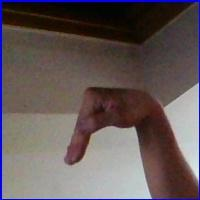A: (67, 83, 162, 175)
